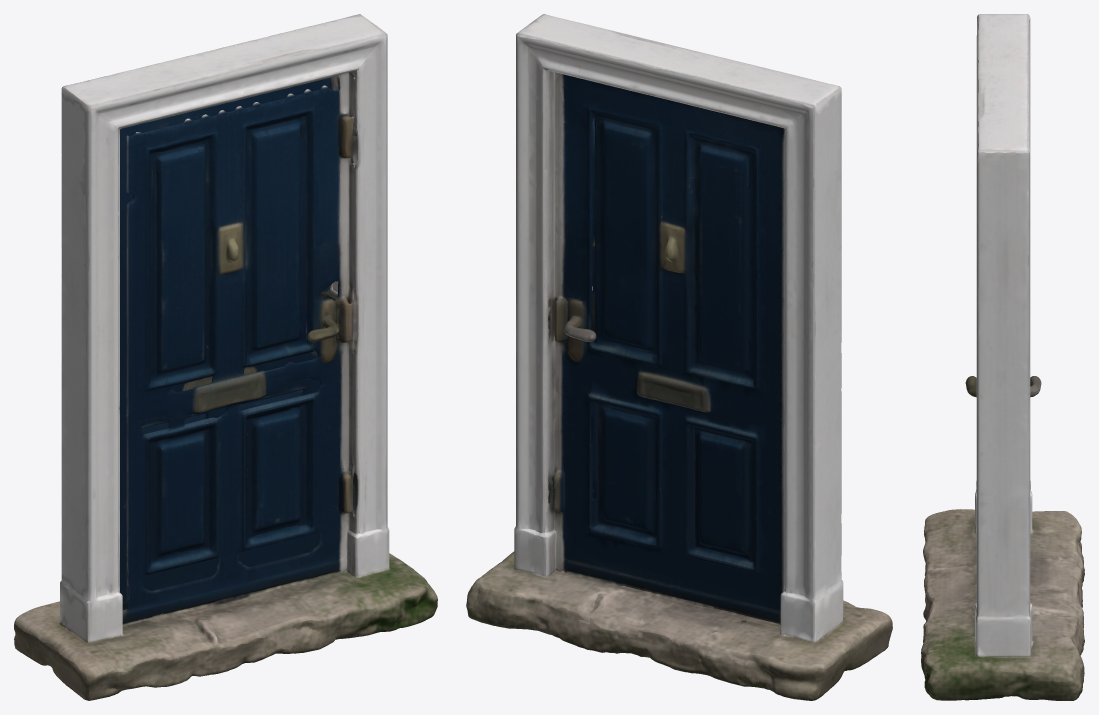
Rendered from front-door.glb.
The picture shows the model from 3 angles, left to right: view 1: azimuth 30°, elevation 25°; view 2: azimuth 150°, elevation 25°; view 3: azimuth 270°, elevation 25°; orthographic projection. The views are drawn at different scales.
Parts seen in each view (by area): view 1: world; view 2: world; view 3: world.
Part boxes in pixels (x1,y1,x2,y2): world: (14, 14, 437, 700); world: (466, 14, 892, 700); world: (921, 14, 1084, 700).
Bounding box in the file's own units: 2.03 × 3.14 × 0.8612.
1 material, 1 textured.
